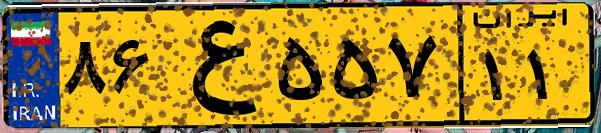1: (475, 38, 525, 113), (525, 38, 570, 115)
5: (270, 28, 330, 110), (330, 28, 385, 110)
6: (110, 28, 158, 98)
7: (385, 28, 445, 110)
8: (57, 26, 110, 100)
ع: (158, 12, 270, 120)
